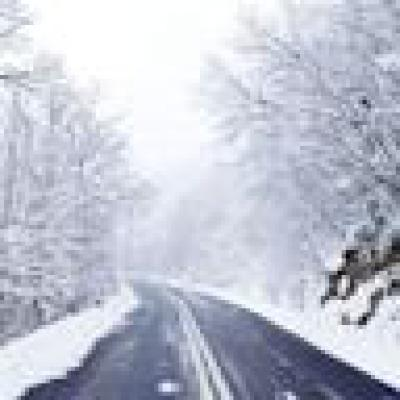iced-road: (25, 283, 400, 398)
